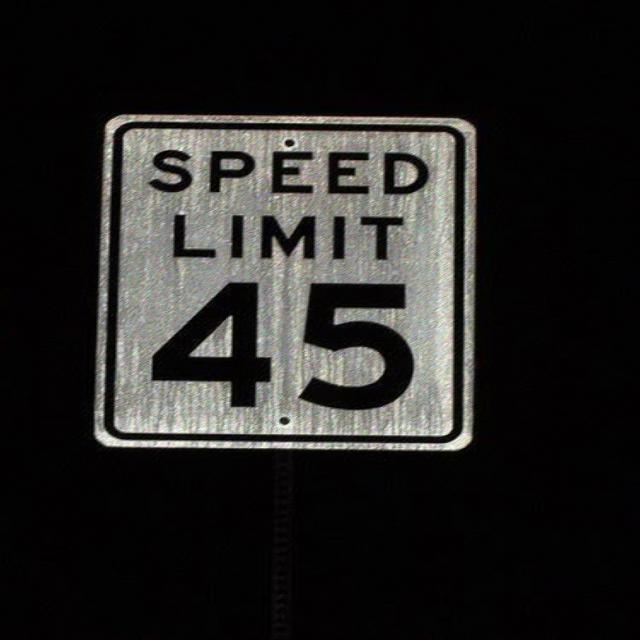speedLimit45: (96, 106, 476, 442)
